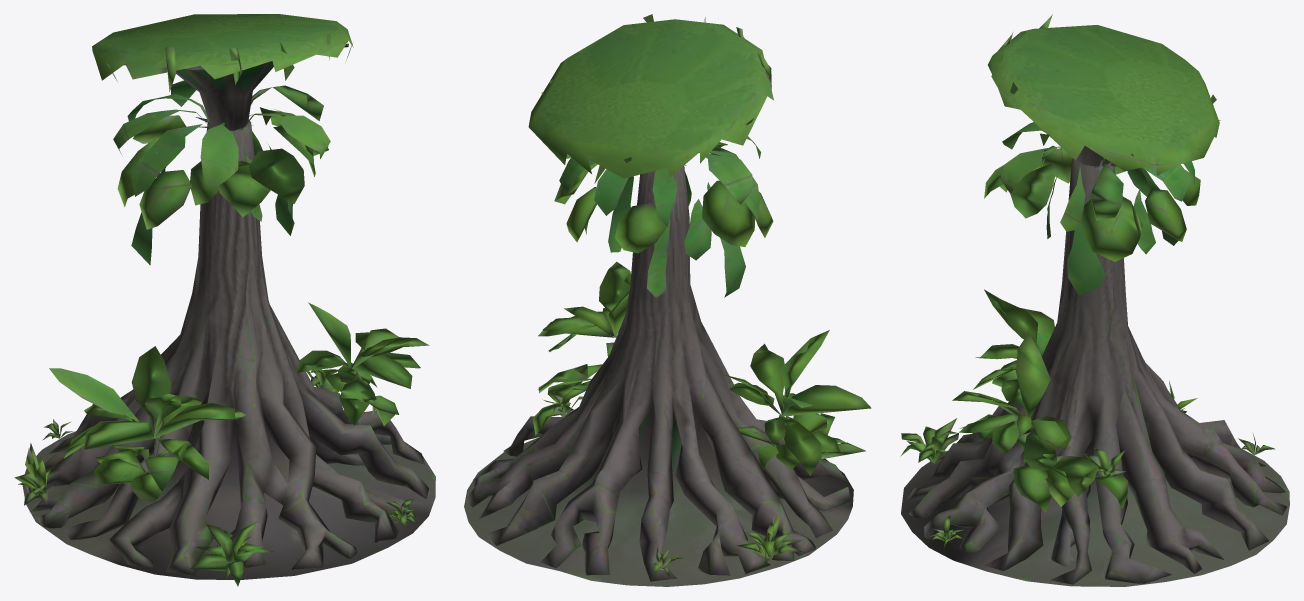
The model's file is tree_kapok_hi.glb.
The picture shows the model from 3 angles, left to right: view 1: azimuth 30°, elevation 25°; view 2: azimuth 150°, elevation 25°; view 3: azimuth 270°, elevation 25°; orthographic projection. The views are drawn at different scales.
Bounding box in the file's own units: 0.7495 × 0.9541 × 0.7388.
1 material, 1 textured.
